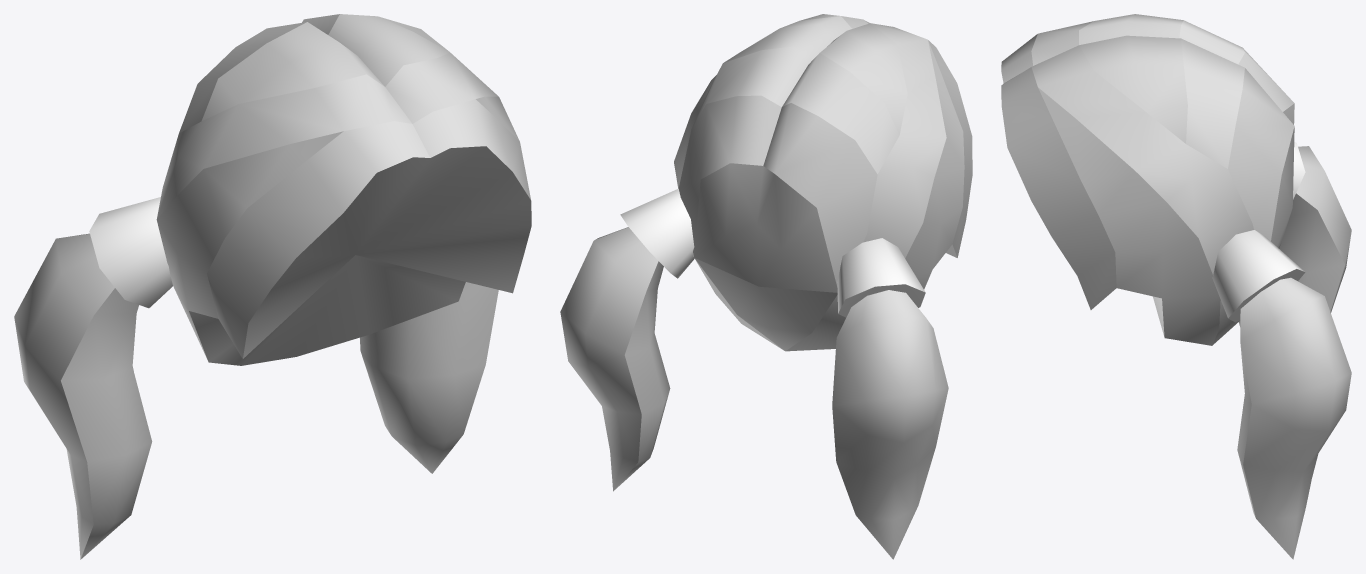
The model's file is Female_Hairs_08_v4.fbx.
The picture shows the model from 3 angles, left to right: view 1: azimuth 30°, elevation 25°; view 2: azimuth 150°, elevation 25°; view 3: azimuth 270°, elevation 25°; orthographic projection. The views are drawn at different scales.
Parts seen in each view (by area): view 1: Female_Hairs_08_v4; view 2: Female_Hairs_08_v4; view 3: Female_Hairs_08_v4.
Boxes of the visible parts, box(x1,y1,x2,y2) form: Female_Hairs_08_v4: box(14, 14, 531, 559); Female_Hairs_08_v4: box(560, 14, 972, 559); Female_Hairs_08_v4: box(1001, 14, 1351, 559).
Bounding box in the file's own units: 76.47 × 87.66 × 60.59.
